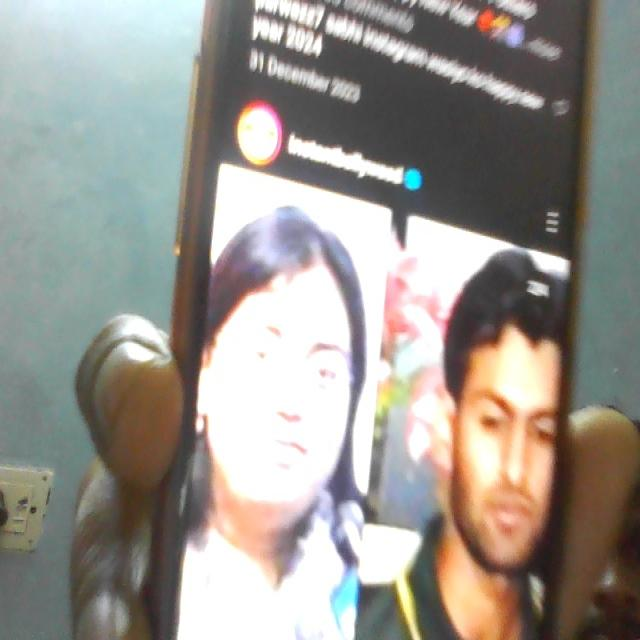fake: (191, 189, 372, 531), (419, 252, 593, 580)
